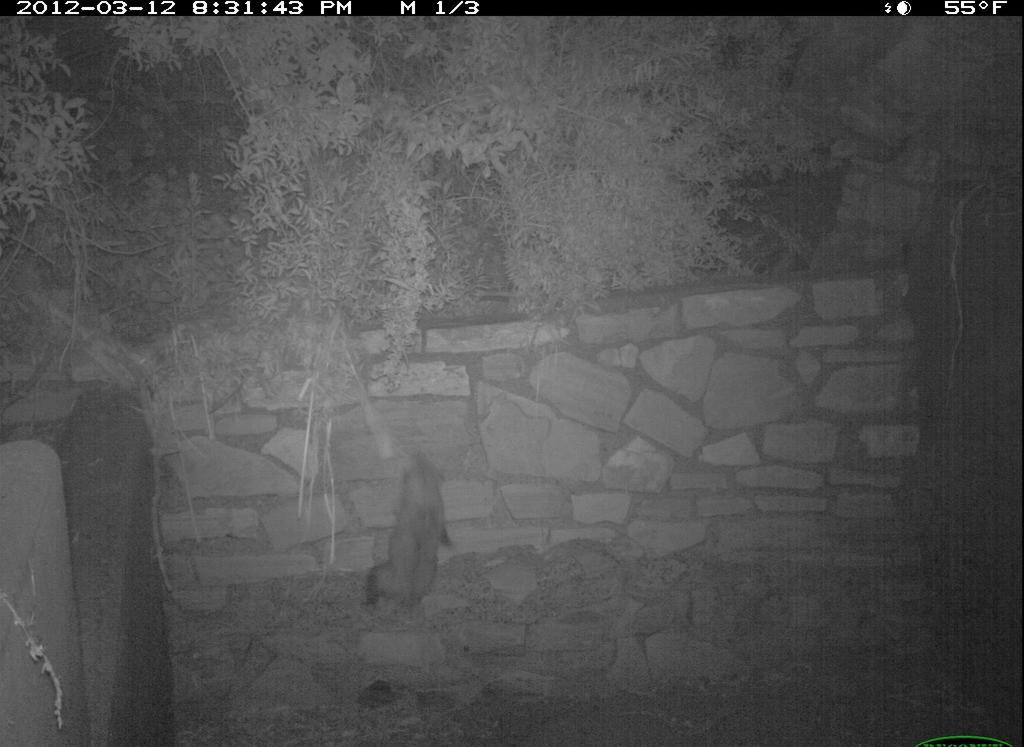opossum: (357, 436, 463, 616)
